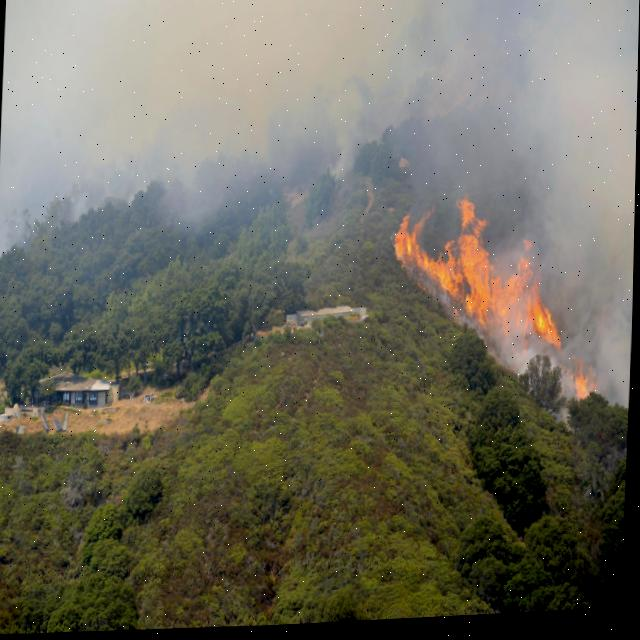fire: (395, 203, 562, 376), (564, 365, 597, 404)
smoke: (0, 0, 640, 411)
